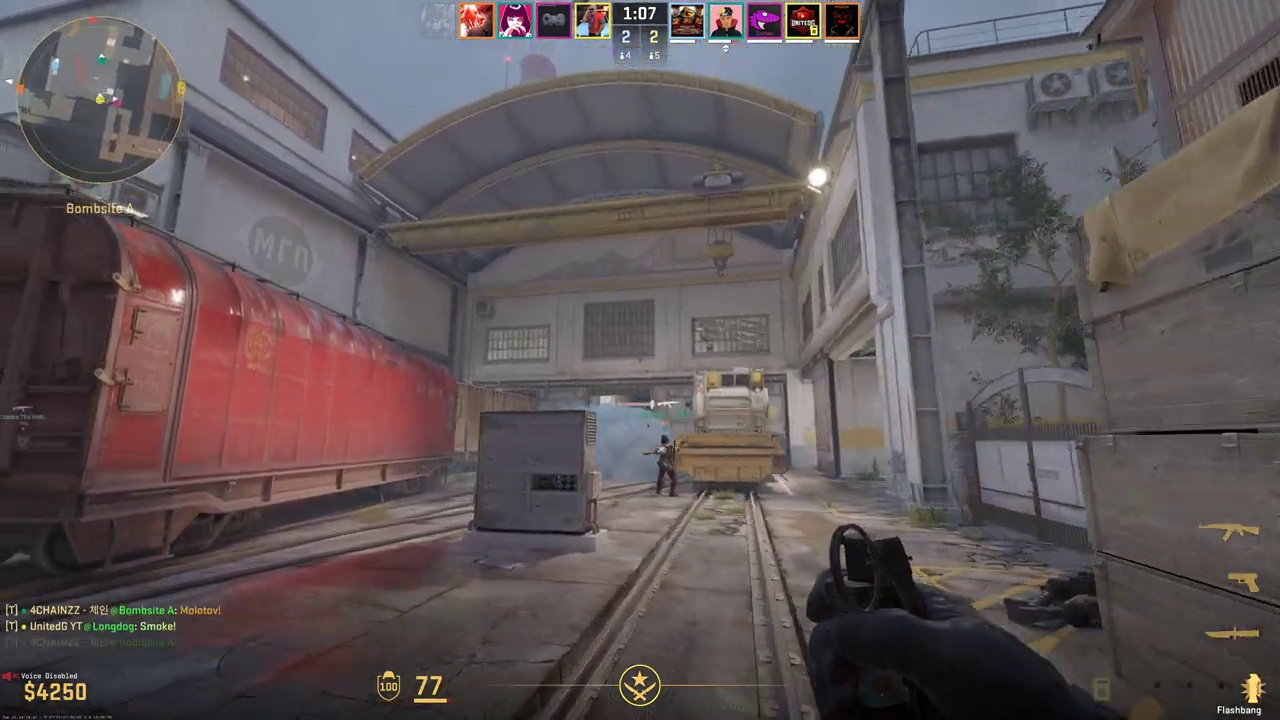Terrorist: (654, 434, 678, 497)
